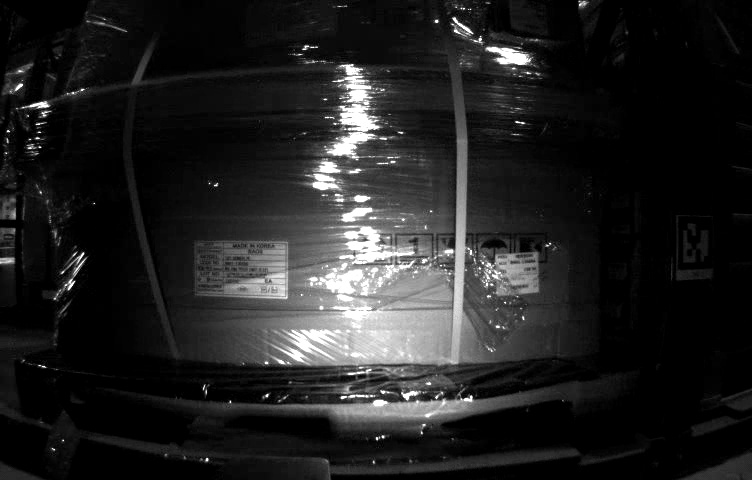True Barcode: (495, 252, 540, 293)
